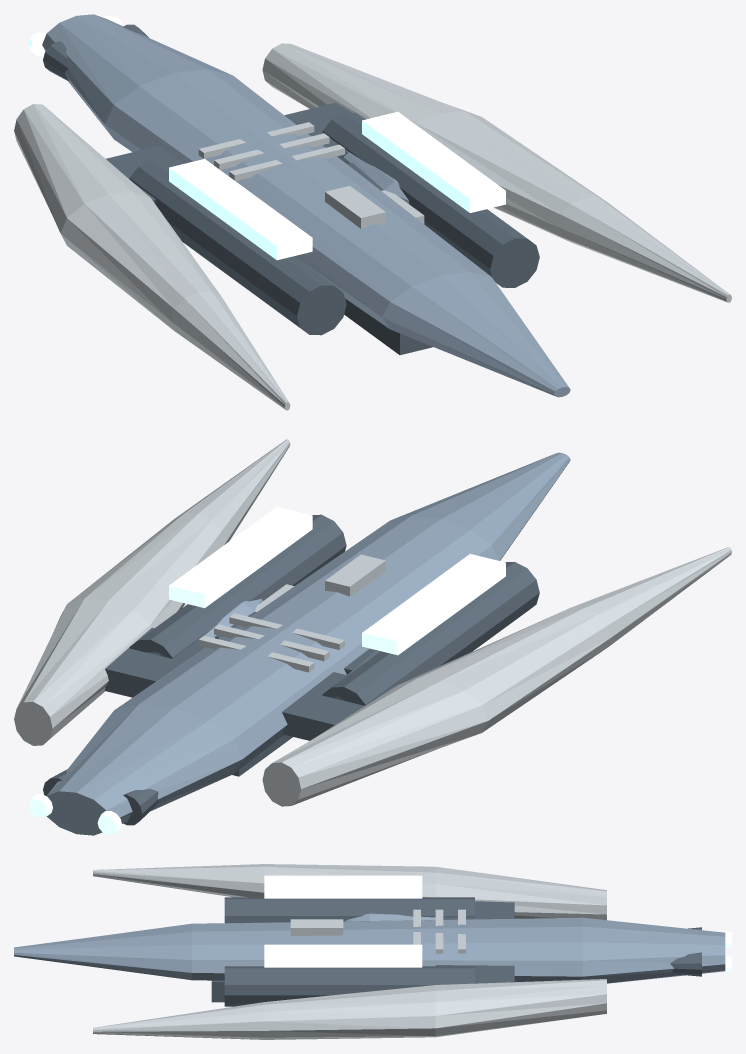
3 views of the same model, one above another, from view 1: azimuth 30°, elevation 25°; view 2: azimuth 150°, elevation 25°; view 3: azimuth 270°, elevation 25° (orthographic). The views are drawn at different scales.
Bounding box in the file's own units: 6.03 × 1.34 × 11.45.
